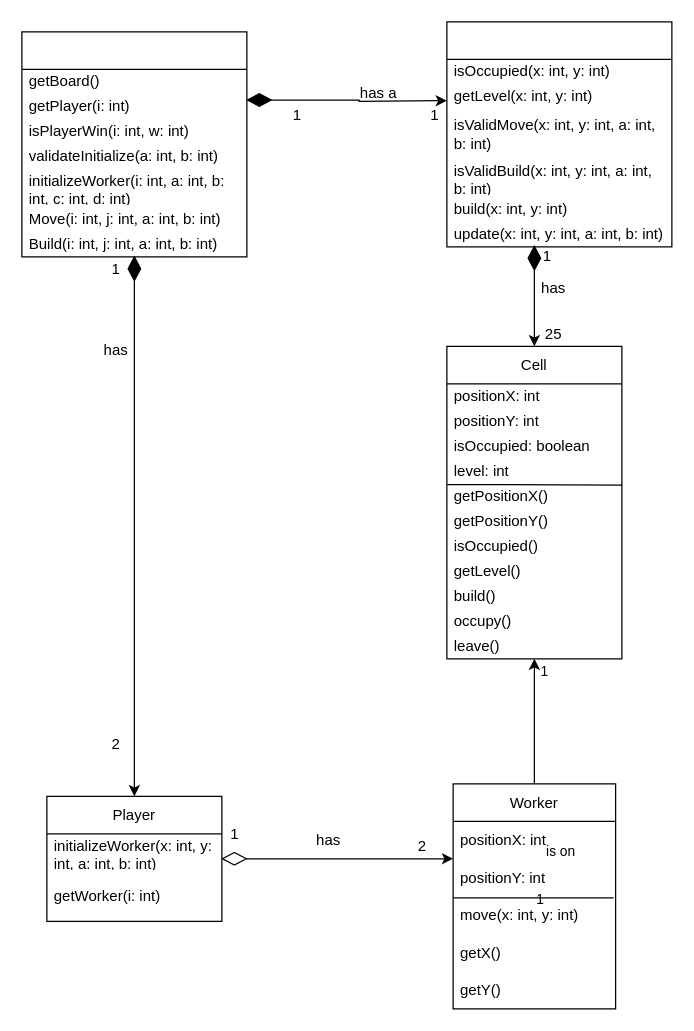
Some shapes in this 694 by 1031 pixel diagram are drawn without their labels. The shapes that lost their labels are listed below. From the top down, each one's box as (x1, y1, x2, y2) in pixels, then its label:
(21, 31, 247, 257): Game
(446, 21, 672, 247): Board
